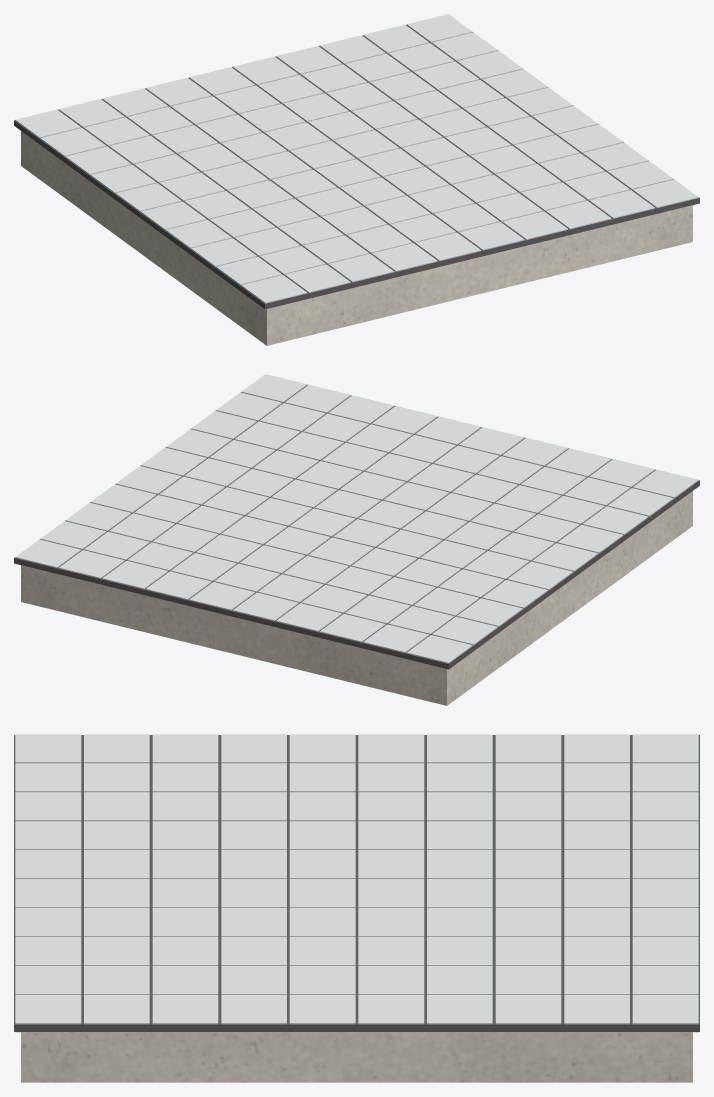
File: floor_tile_bath.glb
The picture shows the model from 3 angles, top to bottom: view 1: azimuth 30°, elevation 25°; view 2: azimuth 150°, elevation 25°; view 3: azimuth 270°, elevation 25°; orthographic projection. The views are drawn at different scales.
Parts seen in each view (by area): view 1: floor_tile_bath_tile, floor_tile_bath_plaster, floor_tile_bath_dark; view 2: floor_tile_bath_tile, floor_tile_bath_plaster, floor_tile_bath_dark; view 3: floor_tile_bath_tile, floor_tile_bath_plaster, floor_tile_bath_dark.
Part boxes in pixels (x1,y1,x2,y2): floor_tile_bath_tile: (15,14,698,309); floor_tile_bath_plaster: (21,131,692,345); floor_tile_bath_dark: (14,24,699,309); floor_tile_bath_tile: (15,374,698,669); floor_tile_bath_plaster: (21,491,692,705); floor_tile_bath_dark: (14,384,699,669); floor_tile_bath_tile: (15,734,698,1032); floor_tile_bath_plaster: (21,1032,692,1082); floor_tile_bath_dark: (14,735,699,1031).
Bounding box in the file's own units: 2 × 0.2 × 2.
Materials: 3 (1 with a texture image).
